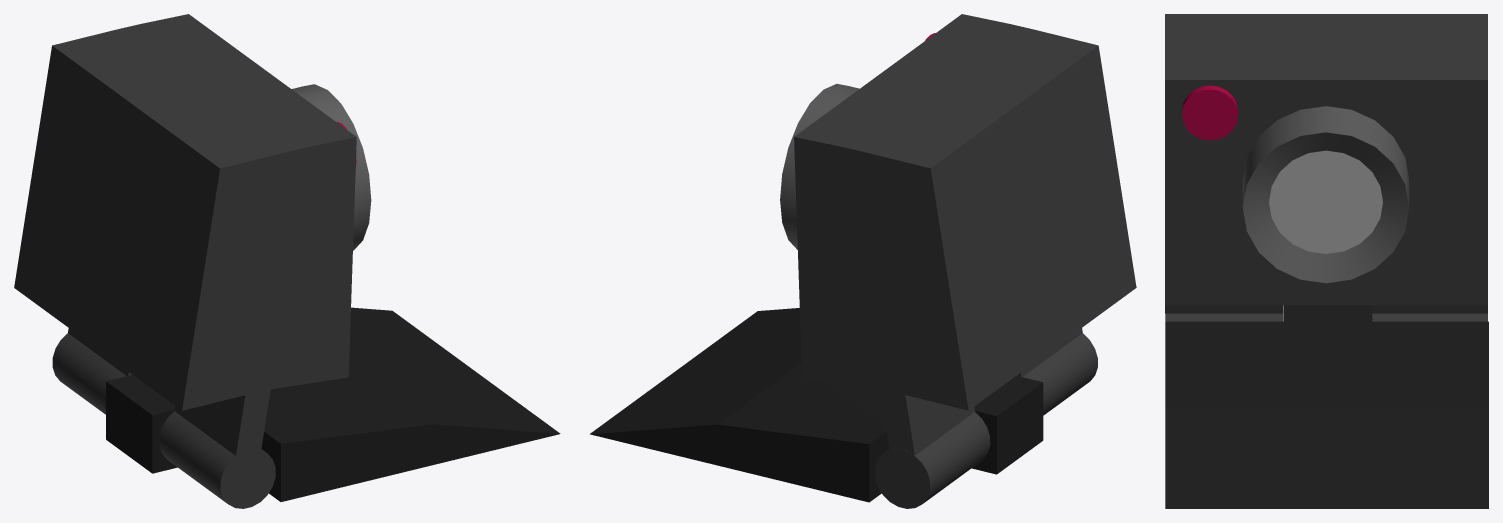
The model's file is SM_WebCam.fbx.
The picture shows the model from 3 angles, left to right: view 1: azimuth 30°, elevation 25°; view 2: azimuth 150°, elevation 25°; view 3: azimuth 270°, elevation 25°; orthographic projection. The views are drawn at different scales.
Parts seen in each view (by area): view 1: pCylinder4; view 2: pCylinder4; view 3: pCylinder4.
Part boxes in pixels (left/top/right/bottom): pCylinder4: left=14, top=14, right=560, bottom=508; pCylinder4: left=590, top=14, right=1136, bottom=508; pCylinder4: left=1165, top=14, right=1488, bottom=508.
Bounding box in the file's own units: 214 × 188 × 164.
